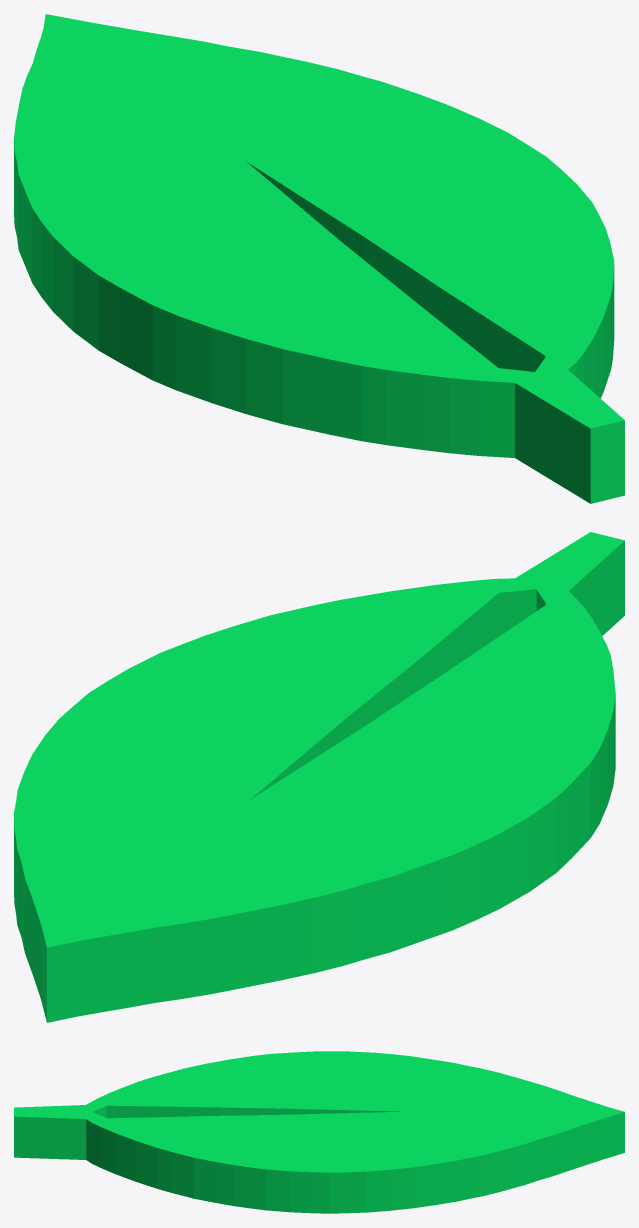
File: mongodb.glb
3 views of the same model, one above another, from view 1: azimuth 30°, elevation 25°; view 2: azimuth 150°, elevation 25°; view 3: azimuth 270°, elevation 25° (orthographic). The views are drawn at different scales.
Visible parts, largest first — view 1: Cube; view 2: Cube; view 3: Cube.
Part boxes in pixels (x1,y1,x2,y2): Cube: (14,14,624,503); Cube: (14,532,624,1022); Cube: (14,1051,624,1213).
Bounding box in the file's own units: 1.62 × 0.255 × 3.45.
